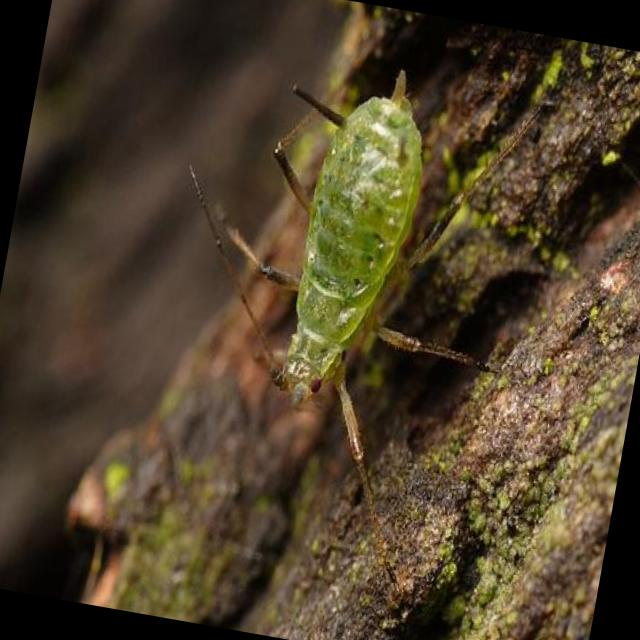Aphids: (142, 46, 548, 590)
